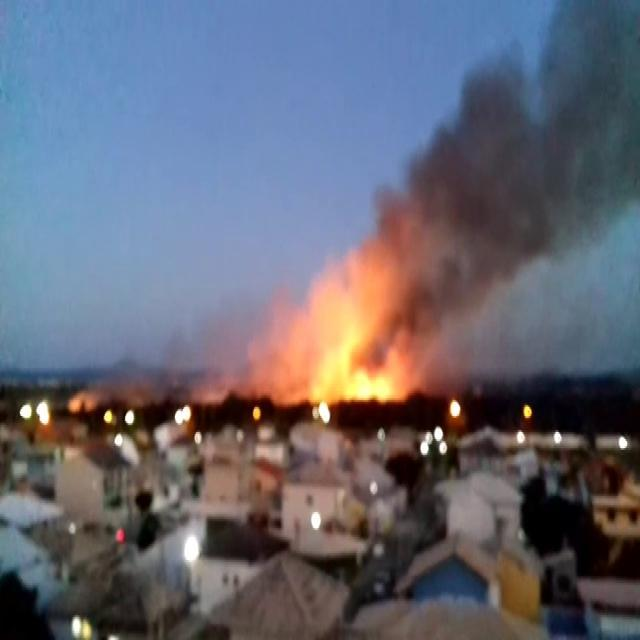Fire: (306, 322, 401, 402), (68, 386, 97, 414)
Smoke: (162, 314, 188, 402)
